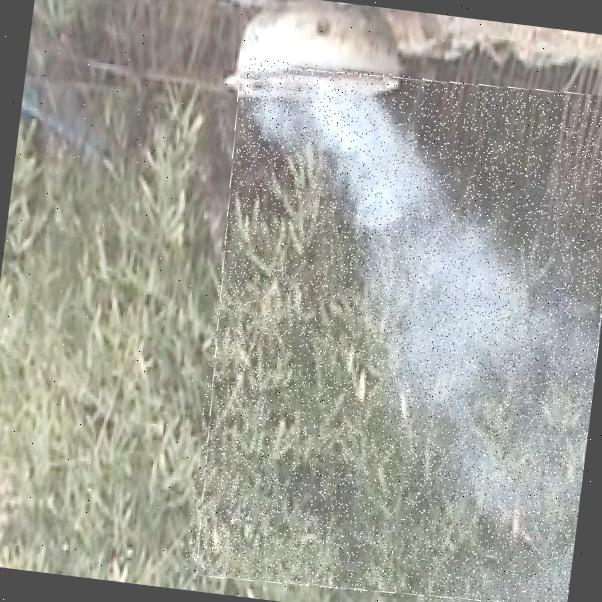smoke: (183, 56, 602, 602)
